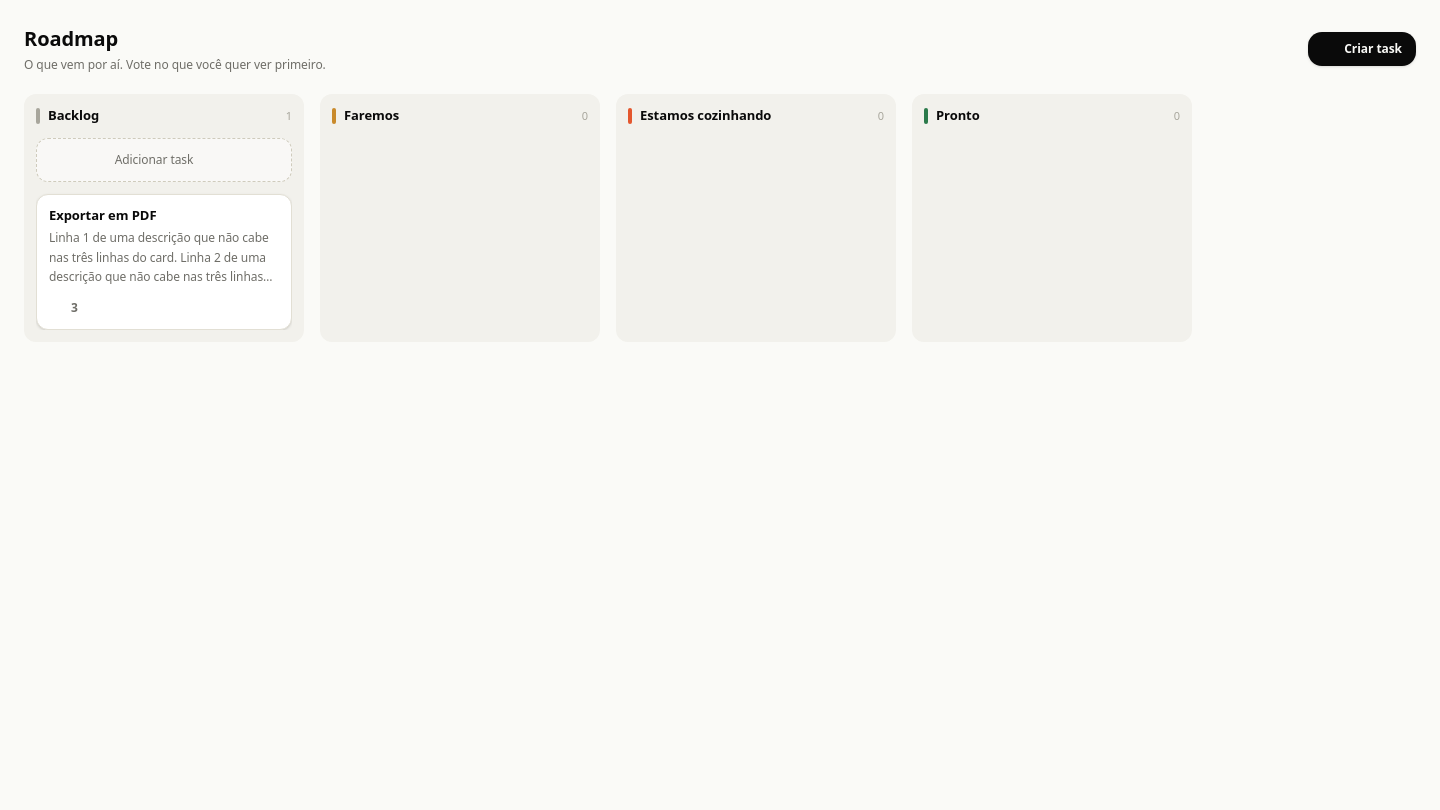
Scenario: roadmap — popup de detalhe do card › clicar no título abre o detalhe com o título e a descrição COMPLETOS
Click the button with test id "abrir-detalhe-c1" at {"x": 164, "y": 215}, box x1=49 y1=206 x2=279 y2=224
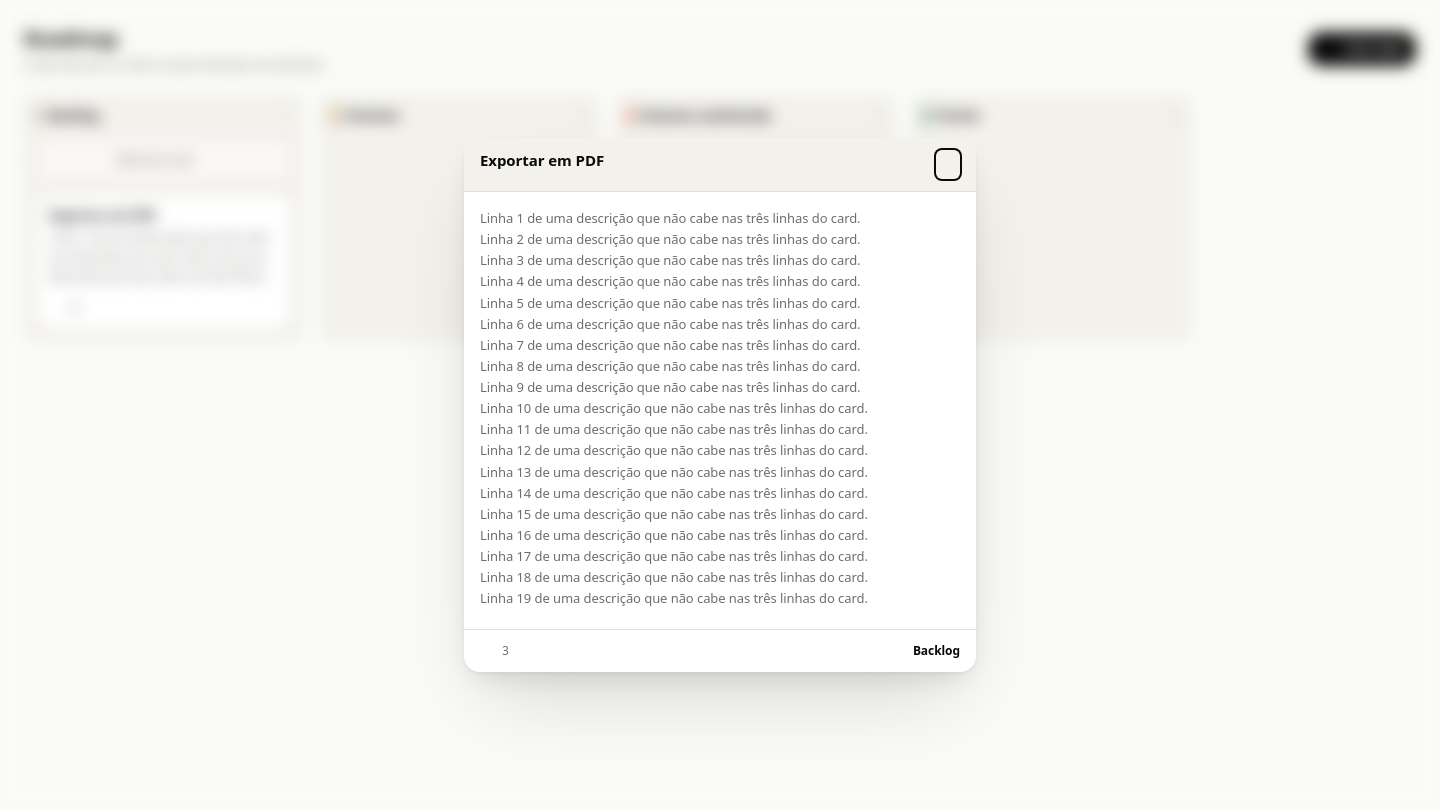
Now the heading with test id "detalhe-titulo" reads "Exportar em PDF", box x1=480 y1=150 x2=604 y2=170
